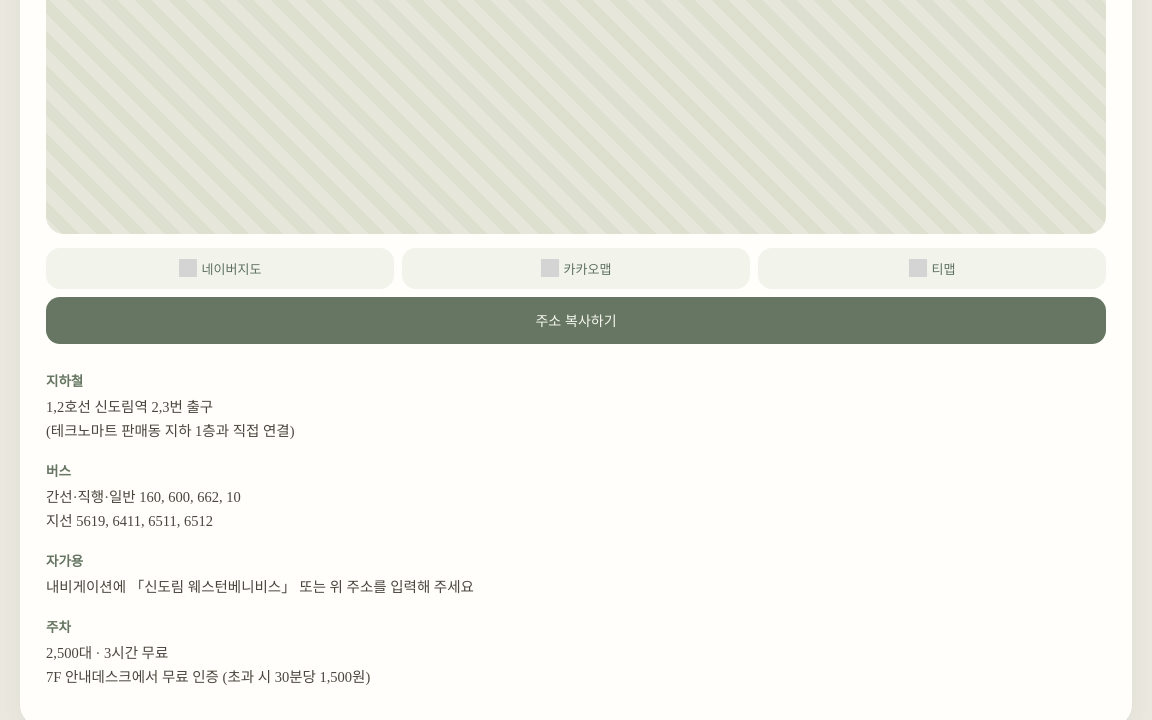
it: Location › 복사에 실패하면 성공했다고 알리지 않는다
The width and height of the screenshot is (1152, 720).
(page scrolled)
Click the button "주소 복사하기" at (576, 320), box [46,296,1106,344]
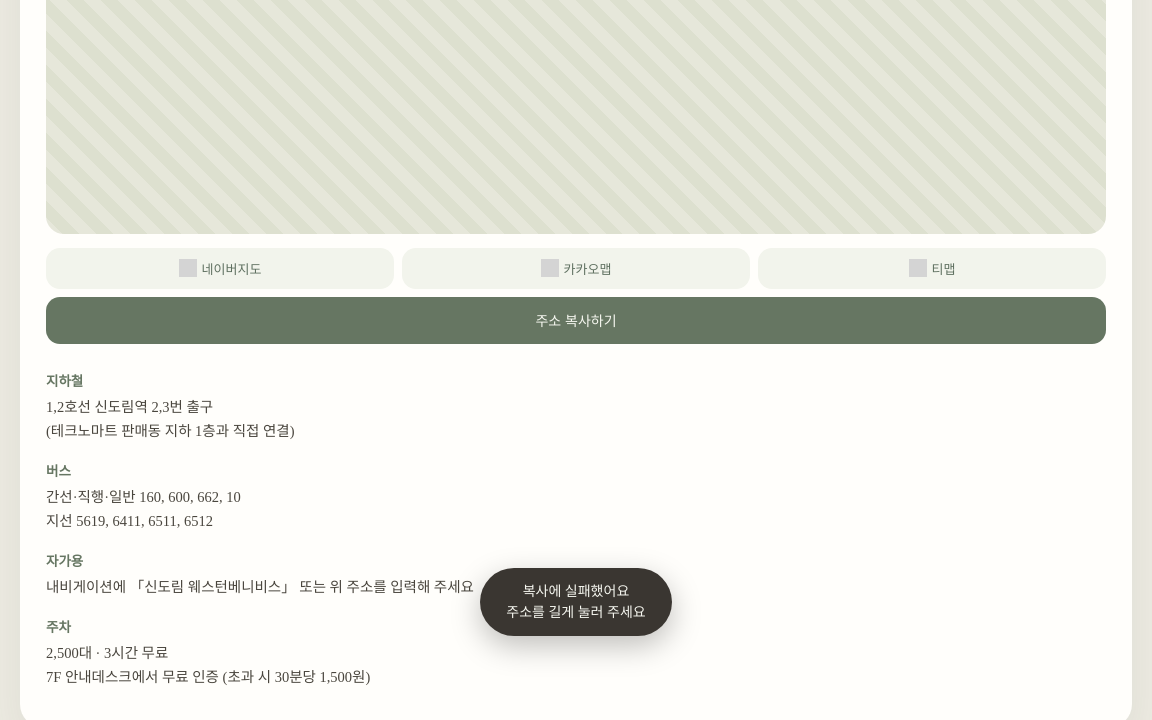
Result: the message shows "복사에 실패했어요" at [506,584,646,620]
